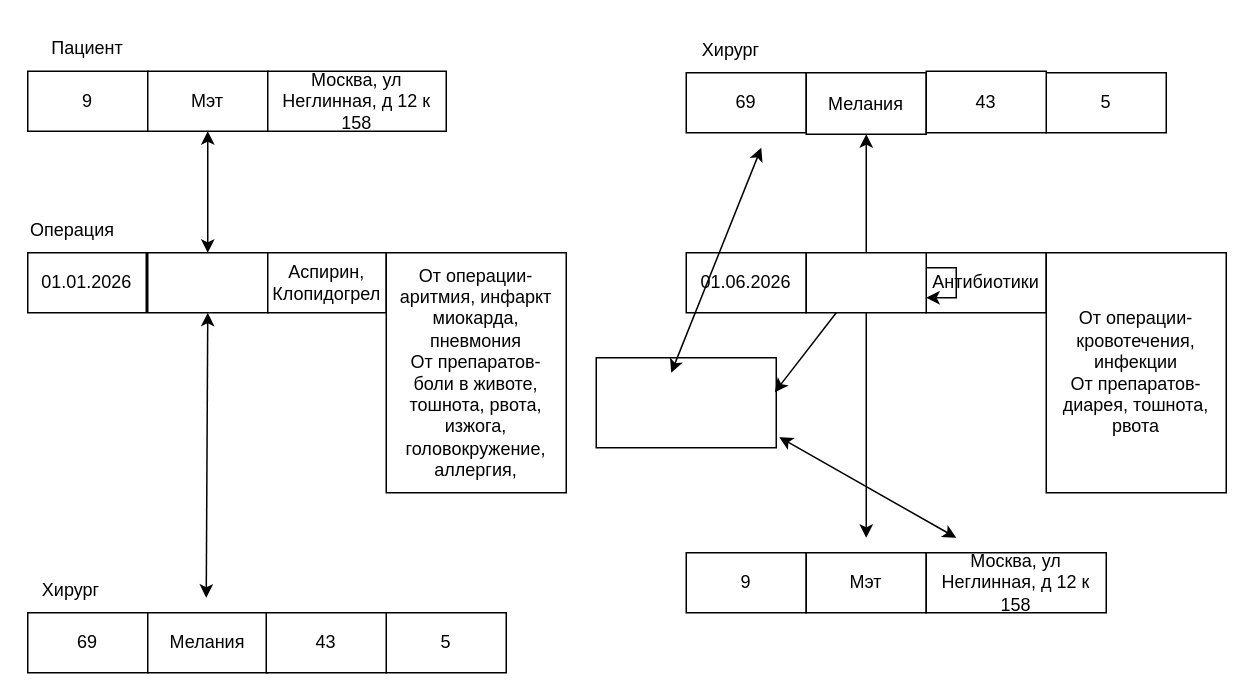
The diagram is 1253 pixels wide and 699 high, and some of its shapes have lost their labels. The centre of each missing label's shape, as x and y in pixels:
"Операция на легкие" goes at (x=865, y=282).
"Операция на сердце" goes at (x=207, y=282).
"Хирургическое отделение" goes at (x=685, y=402).
